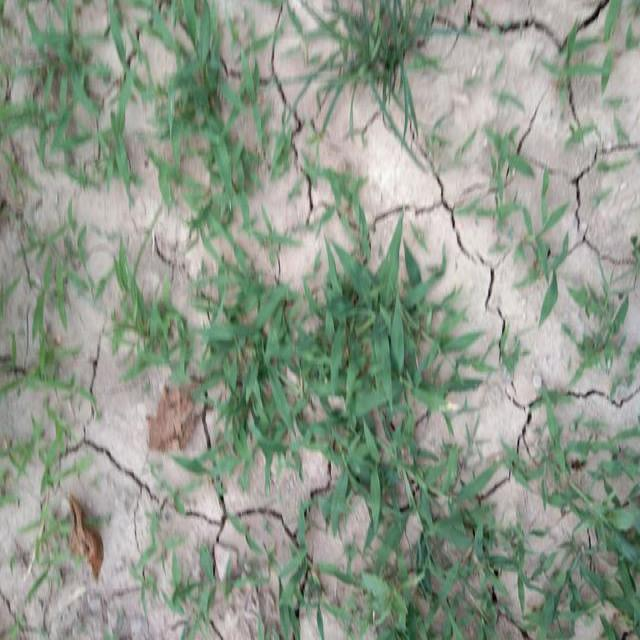weed: (289, 217, 432, 546), (221, 270, 455, 459), (148, 1, 267, 234), (312, 0, 462, 116)
